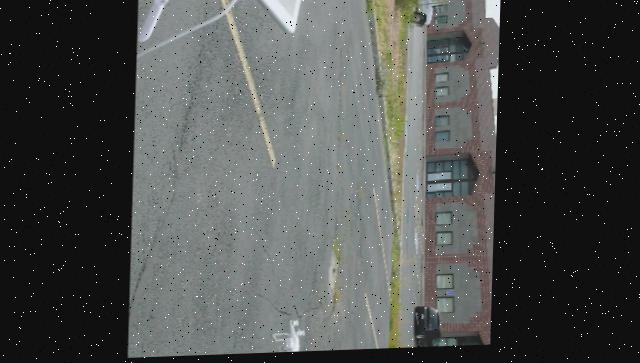drone: (272, 319, 307, 355)
